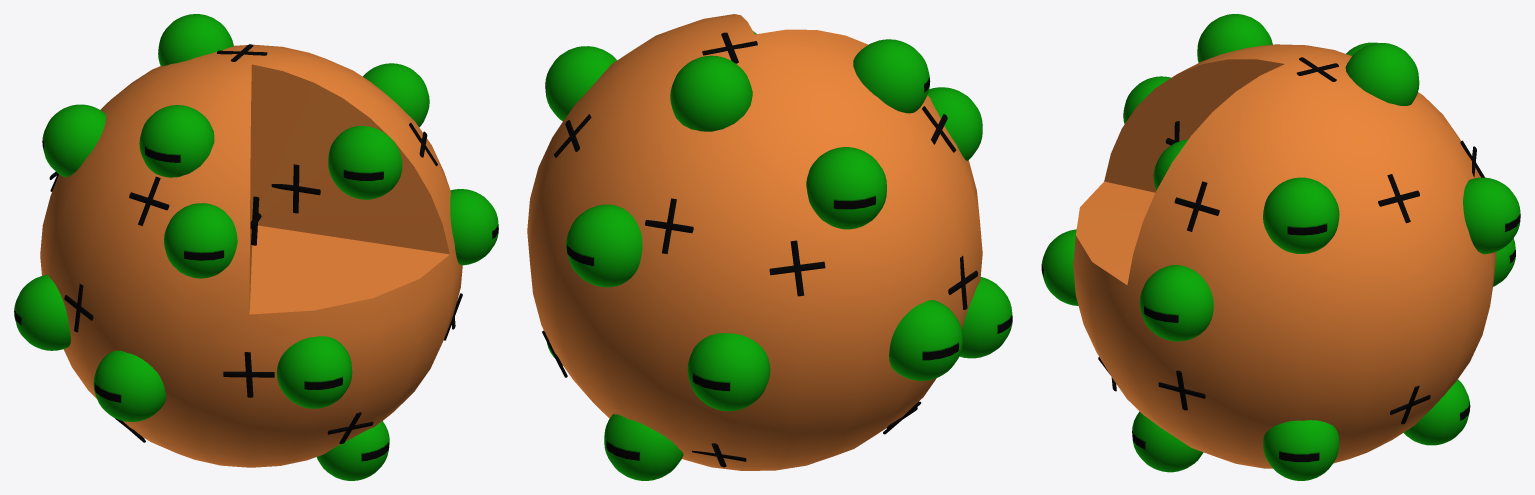
3 views of the same model, side by side, from view 1: azimuth 30°, elevation 25°; view 2: azimuth 150°, elevation 25°; view 3: azimuth 270°, elevation 25° (orthographic). The views are drawn at different scales.
Visible parts, largest first — view 1: atom:pSphere29, atom:pSphere42, atom:pSphere43, atom:pSphere13, atom:pSphere38, atom:pSphere39, atom:pSphere37, atom:pSphere40, atom:pSphere41, atom:pSphere33, atom:pSphere30, atom:pSphere32; view 2: atom:pSphere29, atom:pSphere37, atom:pSphere35, atom:pSphere34, atom:pSphere33, atom:pSphere40, atom:pSphere38, atom:pSphere36, atom:pSphere39, atom:pSphere32, atom:pSphere42; view 3: atom:pSphere29, atom:pSphere32, atom:pSphere41, atom:pSphere31, atom:pSphere34, atom:pSphere33, atom:pSphere30, atom:pSphere36, atom:pSphere38, atom:pSphere13, atom:pSphere42, atom:pSphere35 (+1 smaller).
Boxes of the visible parts, left/top/right/bottom form: atom:pSphere29: left=40, top=44, right=462, bottom=467; atom:pSphere42: left=164, top=203, right=237, bottom=278; atom:pSphere43: left=328, top=125, right=402, bottom=199; atom:pSphere13: left=276, top=336, right=352, bottom=408; atom:pSphere38: left=139, top=105, right=214, bottom=177; atom:pSphere39: left=93, top=350, right=165, bottom=421; atom:pSphere37: left=42, top=104, right=105, bottom=177; atom:pSphere40: left=14, top=274, right=70, bottom=350; atom:pSphere41: left=450, top=189, right=498, bottom=265; atom:pSphere33: left=158, top=14, right=233, bottom=66; atom:pSphere30: left=316, top=421, right=389, bottom=480; atom:pSphere32: left=363, top=63, right=429, bottom=127; atom:pSphere29: left=527, top=14, right=982, bottom=470; atom:pSphere37: left=806, top=147, right=886, bottom=229; atom:pSphere35: left=687, top=333, right=770, bottom=411; atom:pSphere34: left=566, top=204, right=642, bottom=287; atom:pSphere33: left=670, top=55, right=752, bottom=131; atom:pSphere40: left=889, top=300, right=962, bottom=380; atom:pSphere38: left=853, top=39, right=930, bottom=113; atom:pSphere36: left=604, top=414, right=683, bottom=480; atom:pSphere39: left=959, top=277, right=1012, bottom=358; atom:pSphere32: left=545, top=46, right=616, bottom=121; atom:pSphere42: left=927, top=87, right=982, bottom=160; atom:pSphere29: left=1073, top=44, right=1496, bottom=468; atom:pSphere32: left=1263, top=177, right=1339, bottom=253; atom:pSphere41: left=1139, top=265, right=1213, bottom=341; atom:pSphere31: left=1263, top=420, right=1339, bottom=480; atom:pSphere34: left=1463, top=177, right=1520, bottom=254; atom:pSphere33: left=1345, top=43, right=1419, bottom=105; atom:pSphere30: left=1132, top=411, right=1203, bottom=472; atom:pSphere36: left=1403, top=379, right=1470, bottom=445; atom:pSphere38: left=1197, top=14, right=1272, bottom=62; atom:pSphere13: left=1041, top=229, right=1078, bottom=305; atom:pSphere42: left=1123, top=76, right=1170, bottom=123; atom:pSphere35: left=1493, top=238, right=1515, bottom=286.
Bounding box in the file's own units: 5.14 × 4.9 × 5.32.
3 materials, 2 textured.
